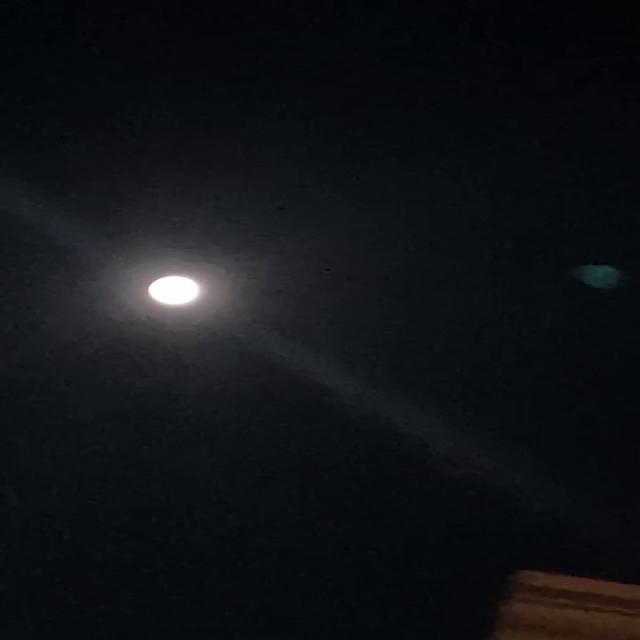moon: (131, 267, 222, 313)
